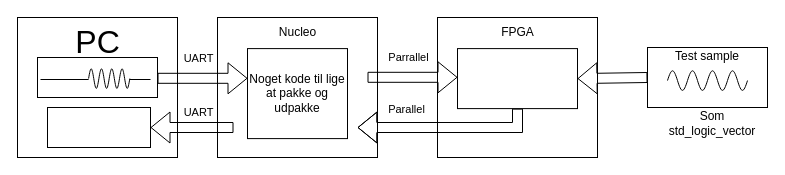
Some shapes in this 785 by 175 pixel diagram are drawn without their labels. The centre of each missing label's shape, as x and y in pixels:
Krydskorrelation: pixel 517 78
Sej graf: pixel 98 127
